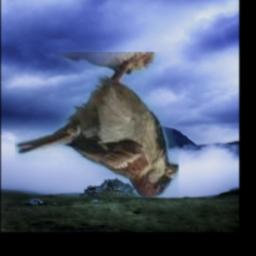Sparrow: (15, 52, 179, 197)
